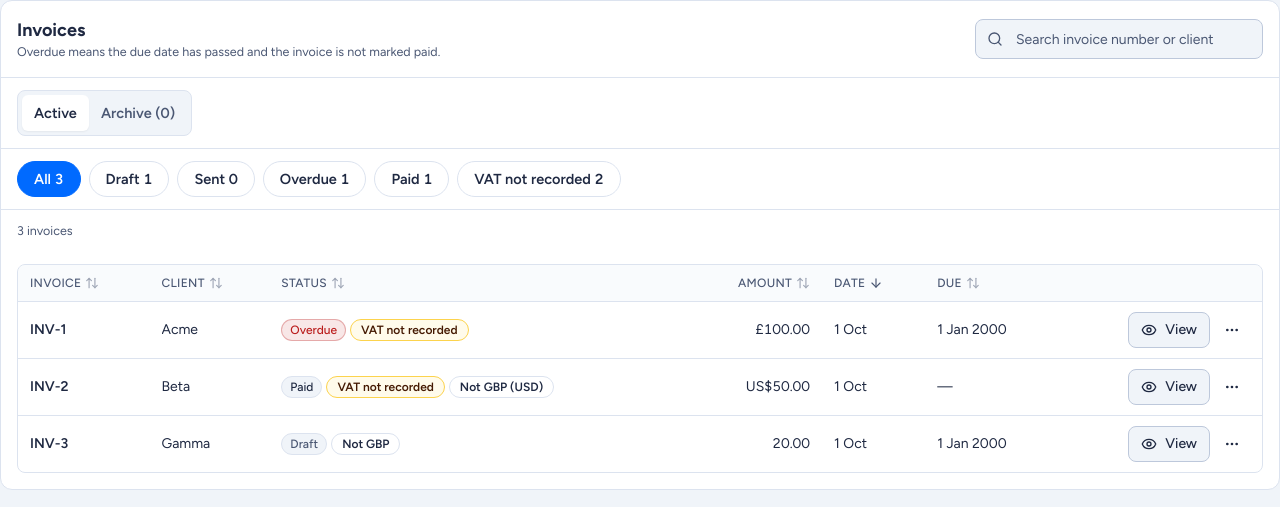
it: DocumentsTable › status chips filter with counts and aria-pressed; search narrows by number or client
This screenshot has width=1280, height=507.
Click the button "Overdue 1" at point(315, 179), box [263,161,366,197]
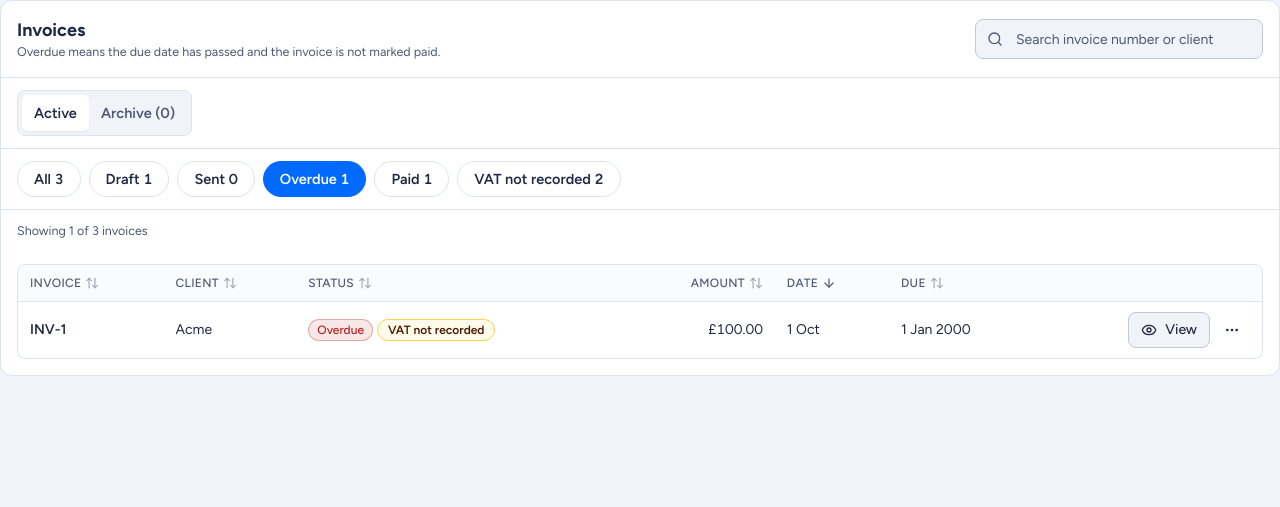
Expected: the text "Showing 1 of 3 invoices" is shown, [17,223,148,238]
Click the button "All 3" at point(49, 179), box [17,161,81,197]
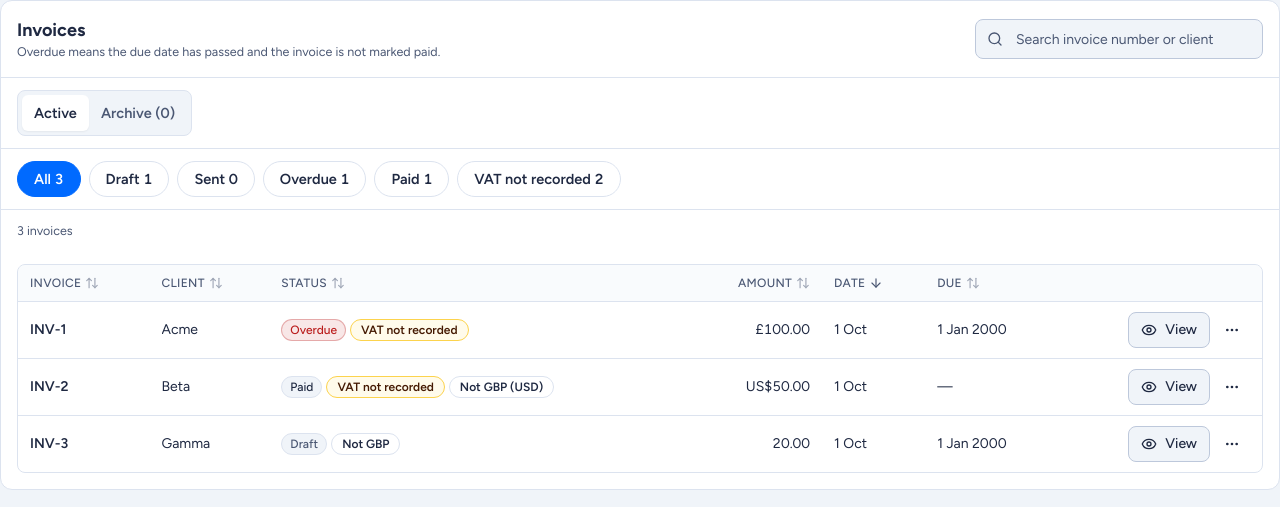
Type "beta" into the field named "Search invoices" at point(1119, 39), box [975,19,1263,59]
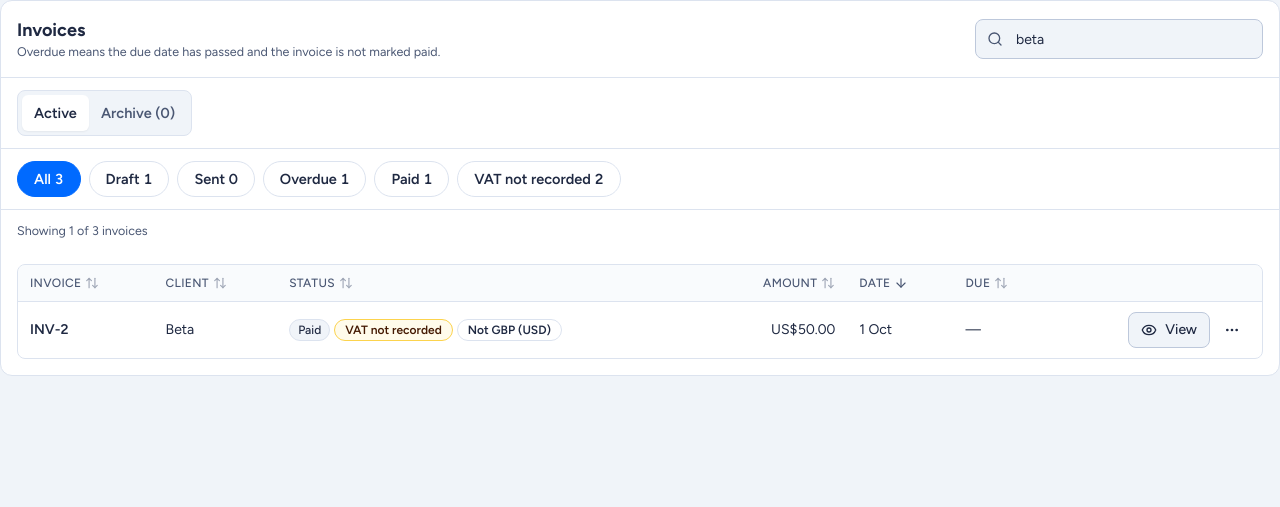
Expected: the text "Showing 1 of 3 invoices" is shown, [17,223,148,238]
